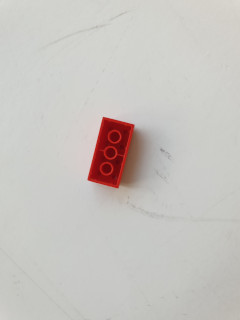2x4 red: (87, 116, 135, 189)
